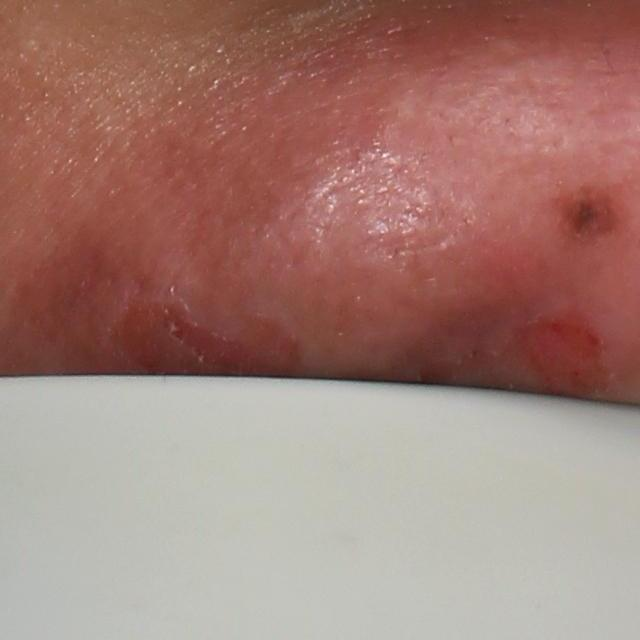nevus: (551, 185, 625, 246)
